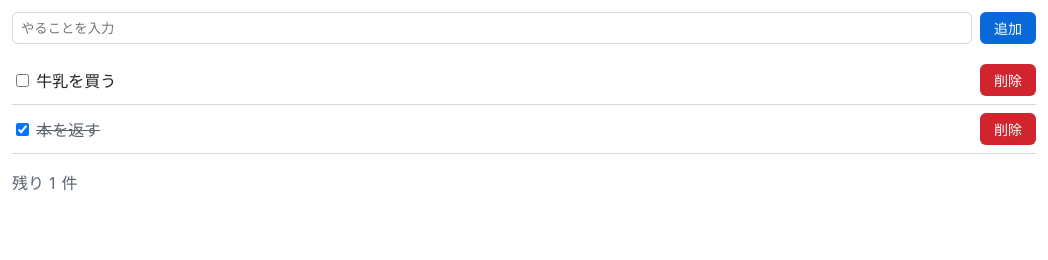
it: TodoList › adds a new item and clears the input
Type "  掃除する  " into the field named "新しいTODO" at (492,28), box [12,12,972,44]
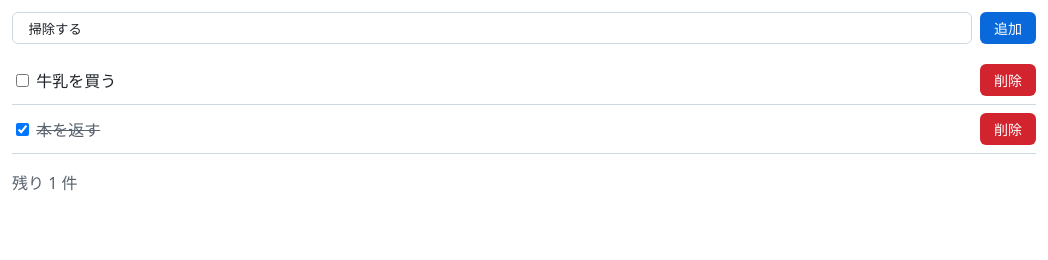
Click the button "追加" at (1008,28), box [980,12,1036,44]
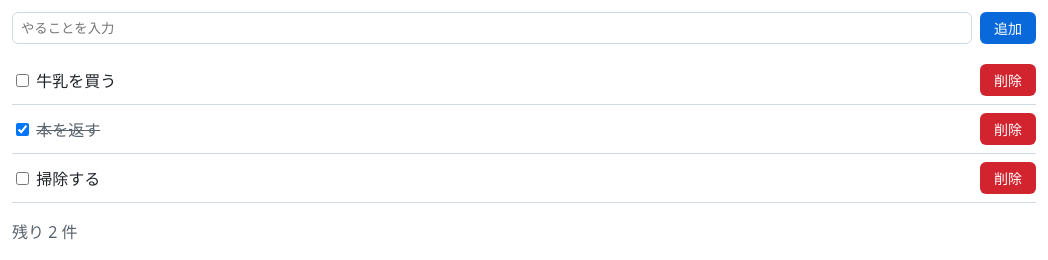
Now the text "掃除する" is shown, box [36,168,100,190]
Now the field named "新しいTODO" is empty, box [12,12,972,44]
Now the text "残り 2 件" is shown, box [12,221,78,243]
